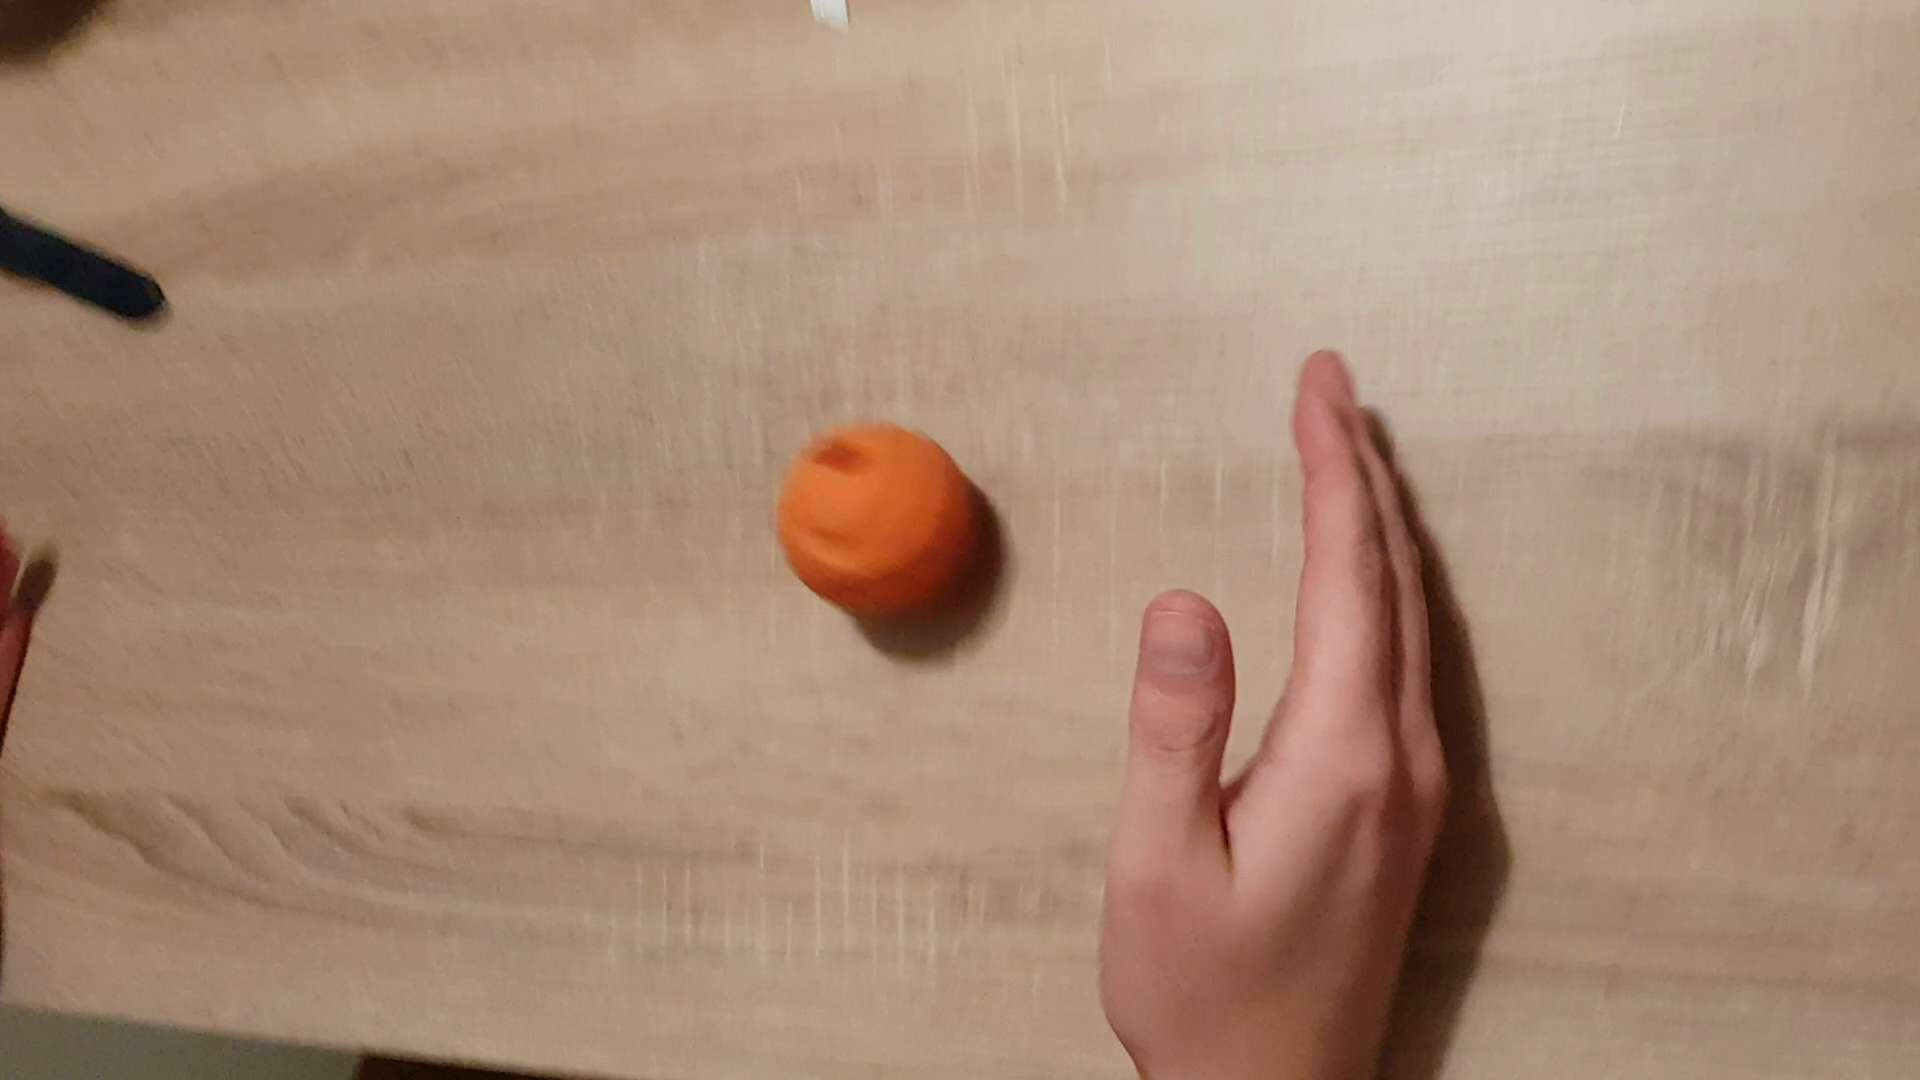sphere: (765, 415, 972, 617)
